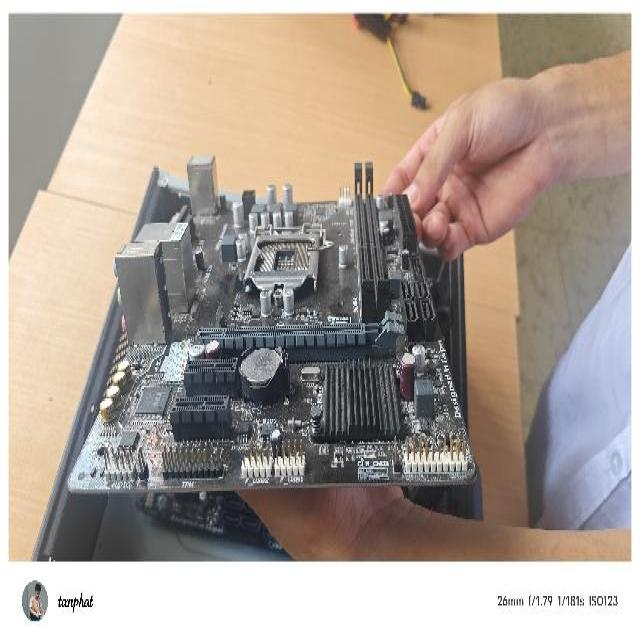Mainboard: (66, 145, 478, 504)
